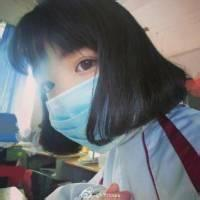OK: (33, 38, 143, 148)
